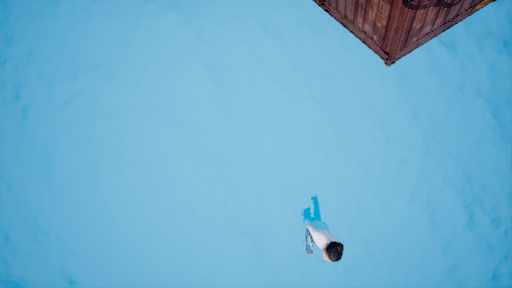person: (299, 196, 357, 269)
